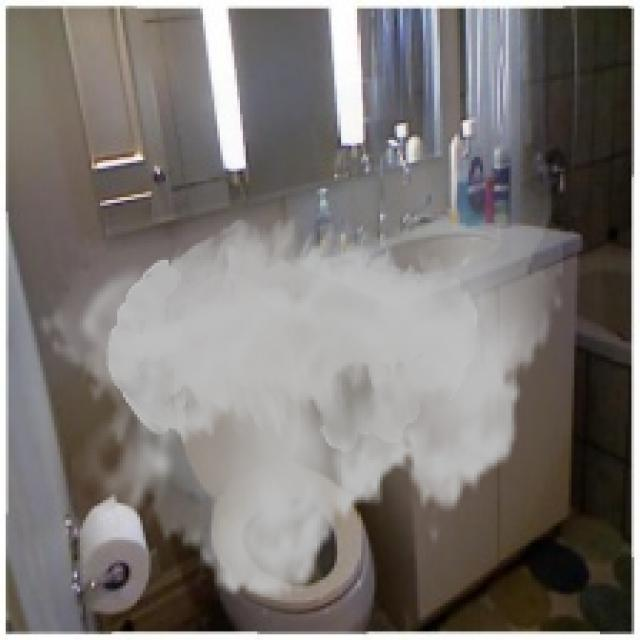Smoke: (37, 60, 563, 620)
